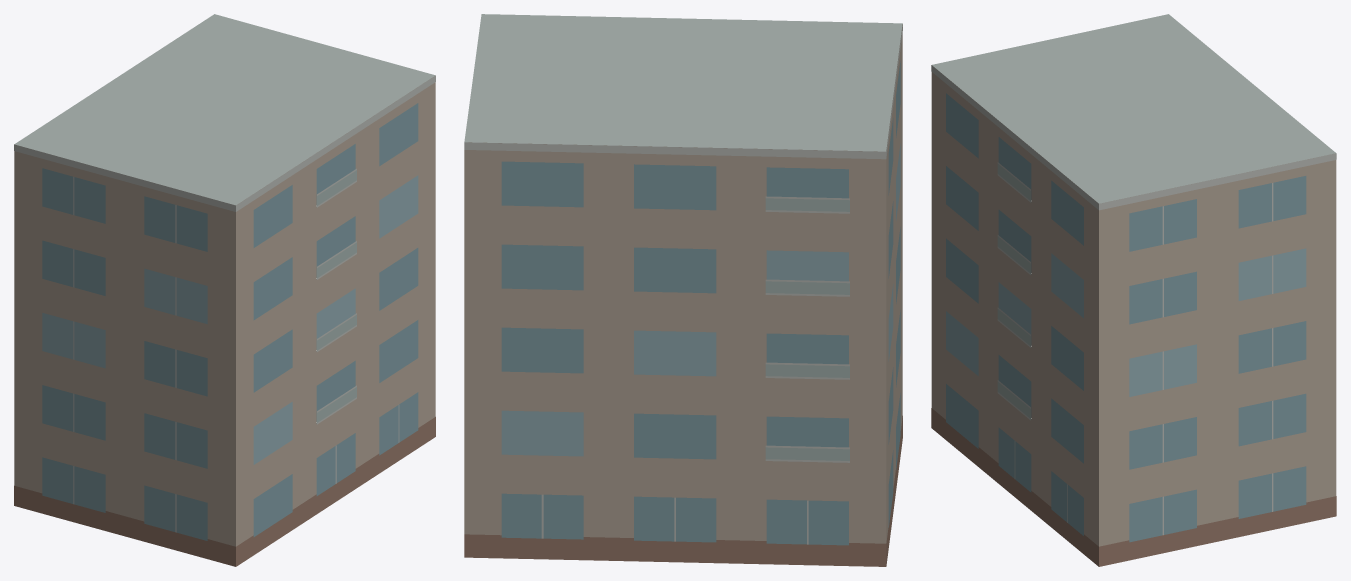
The model's file is survey-upis-33025873.glb.
3 renders of one model, left to right at view 1: azimuth 30°, elevation 25°; view 2: azimuth 150°, elevation 25°; view 3: azimuth 270°, elevation 25°, orthographic. The views are drawn at different scales.
Parts seen in each view (by area): view 1: survey-upis-33025873.tmp; view 2: survey-upis-33025873.tmp; view 3: survey-upis-33025873.tmp.
Boxes of the visible parts, x1,y1,x2,y2 form: survey-upis-33025873.tmp: (14,14,435,566); survey-upis-33025873.tmp: (464,14,902,566); survey-upis-33025873.tmp: (931,14,1336,566).
Size of the model in its own units: 14.91 by 13.3 by 13.45.
